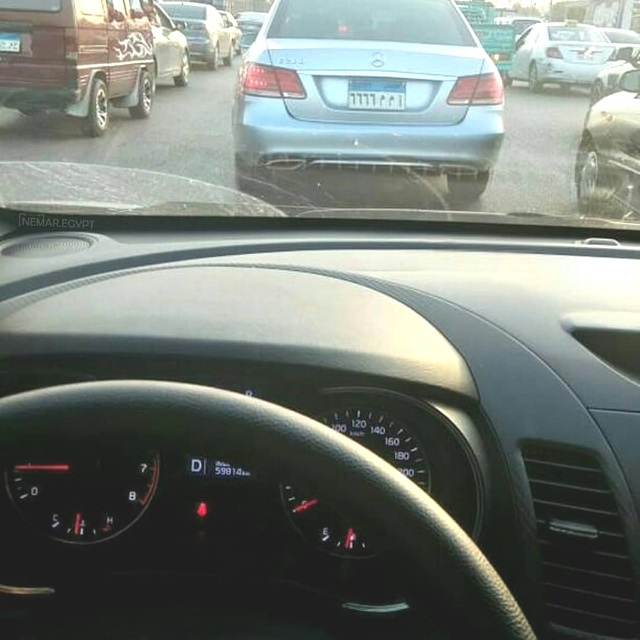License Plate: (346, 74, 408, 112)
